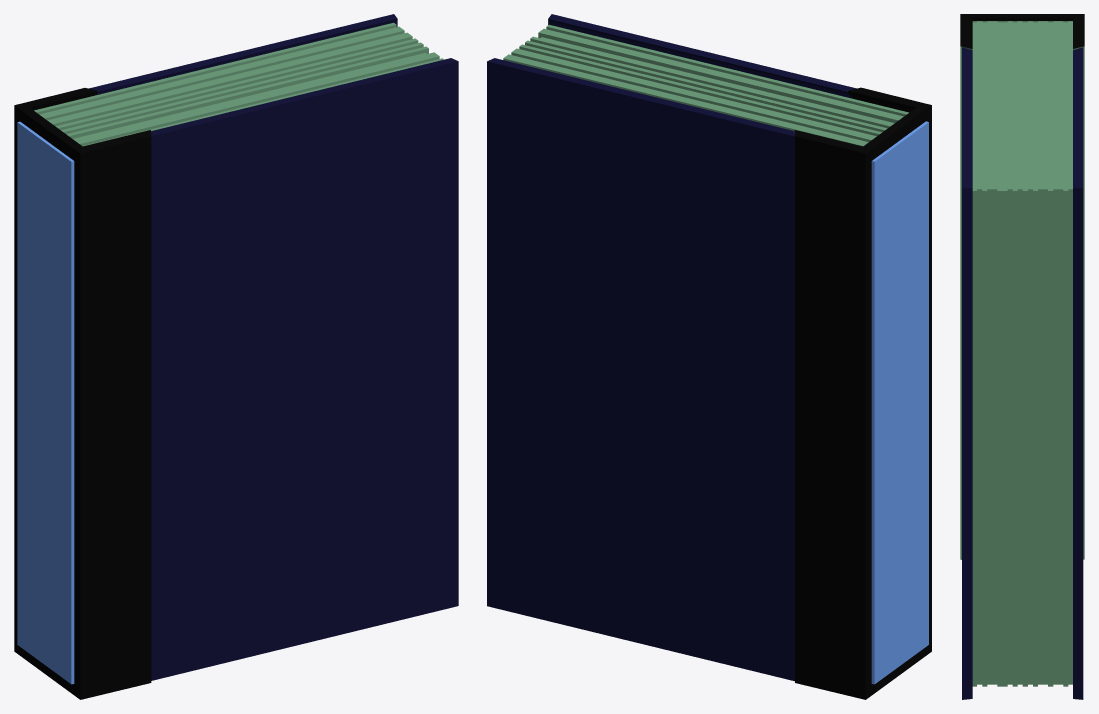
The model's file is DeskBook.fbx.
3 views of the same model, side by side, from view 1: azimuth 30°, elevation 25°; view 2: azimuth 150°, elevation 25°; view 3: azimuth 270°, elevation 25° (orthographic). The views are drawn at different scales.
Parts seen in each view (by area): view 1: SmallBook; view 2: SmallBook; view 3: SmallBook.
Part boxes in pixels (x1,y1,x2,y2): SmallBook: (14, 14, 458, 699); SmallBook: (487, 14, 931, 699); SmallBook: (960, 14, 1084, 699).
Size of the model in its own units: 109 by 149 by 32.68.
